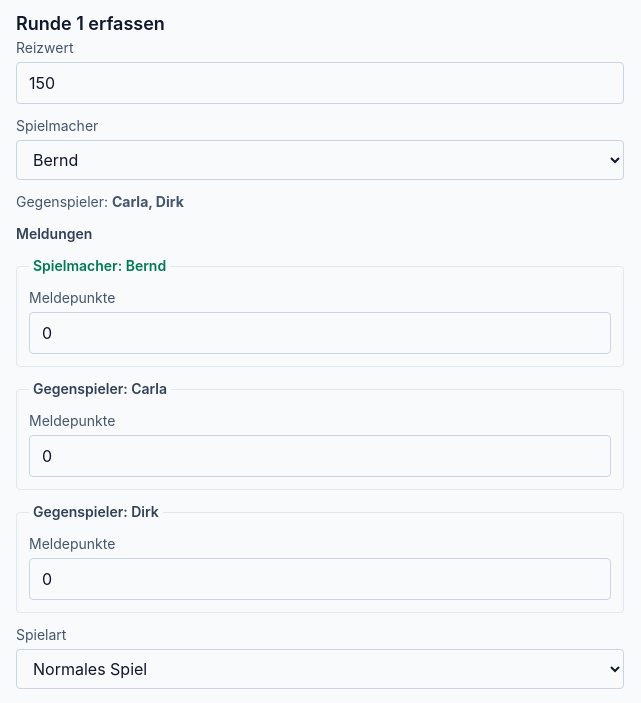
Test case: RundeForm › leitet die Gegenspieler aus aktiven Spielern minus Spielmacher ab
This screenshot has width=641, height=703.
Expected: the text with test id "gegenspieler" reads "Carla, Dirk", [112,193,184,210]
Step 1. Select "Carla" in the dropdown with test id "spielmacher" → (320, 160), box [16,140,624,180]
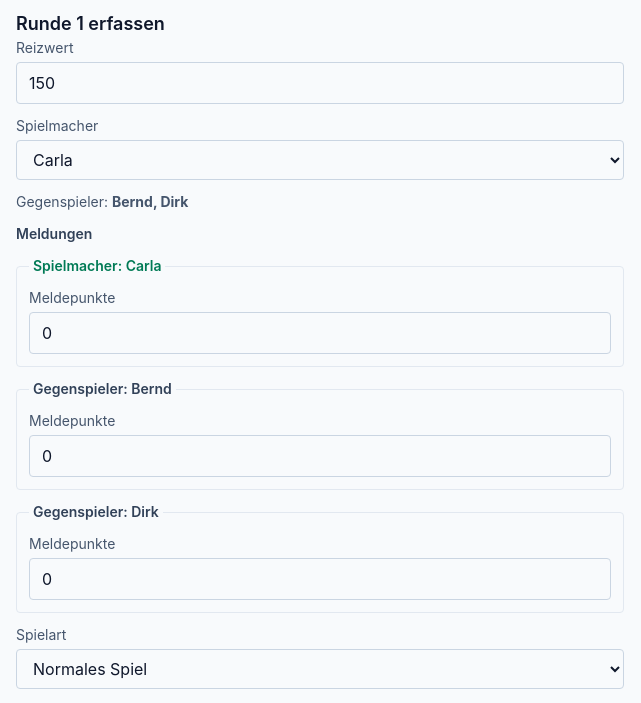
Now the text with test id "gegenspieler" reads "Bernd, Dirk", box [112,193,188,210]
